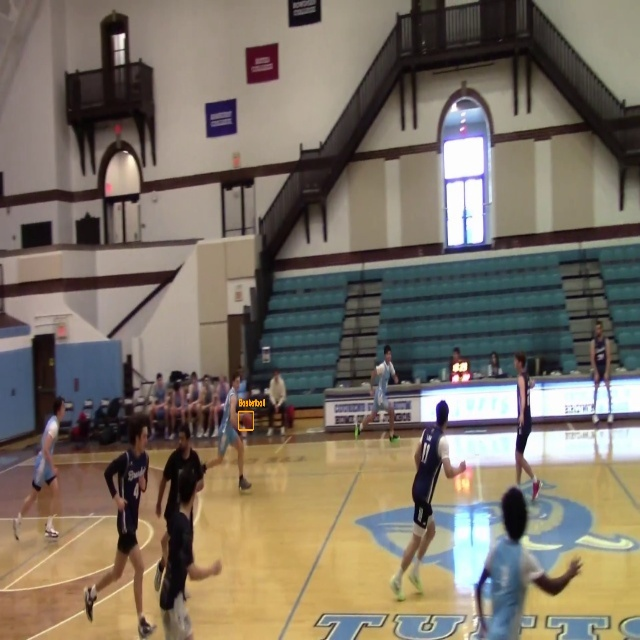Basketball: (239, 412, 253, 430)
